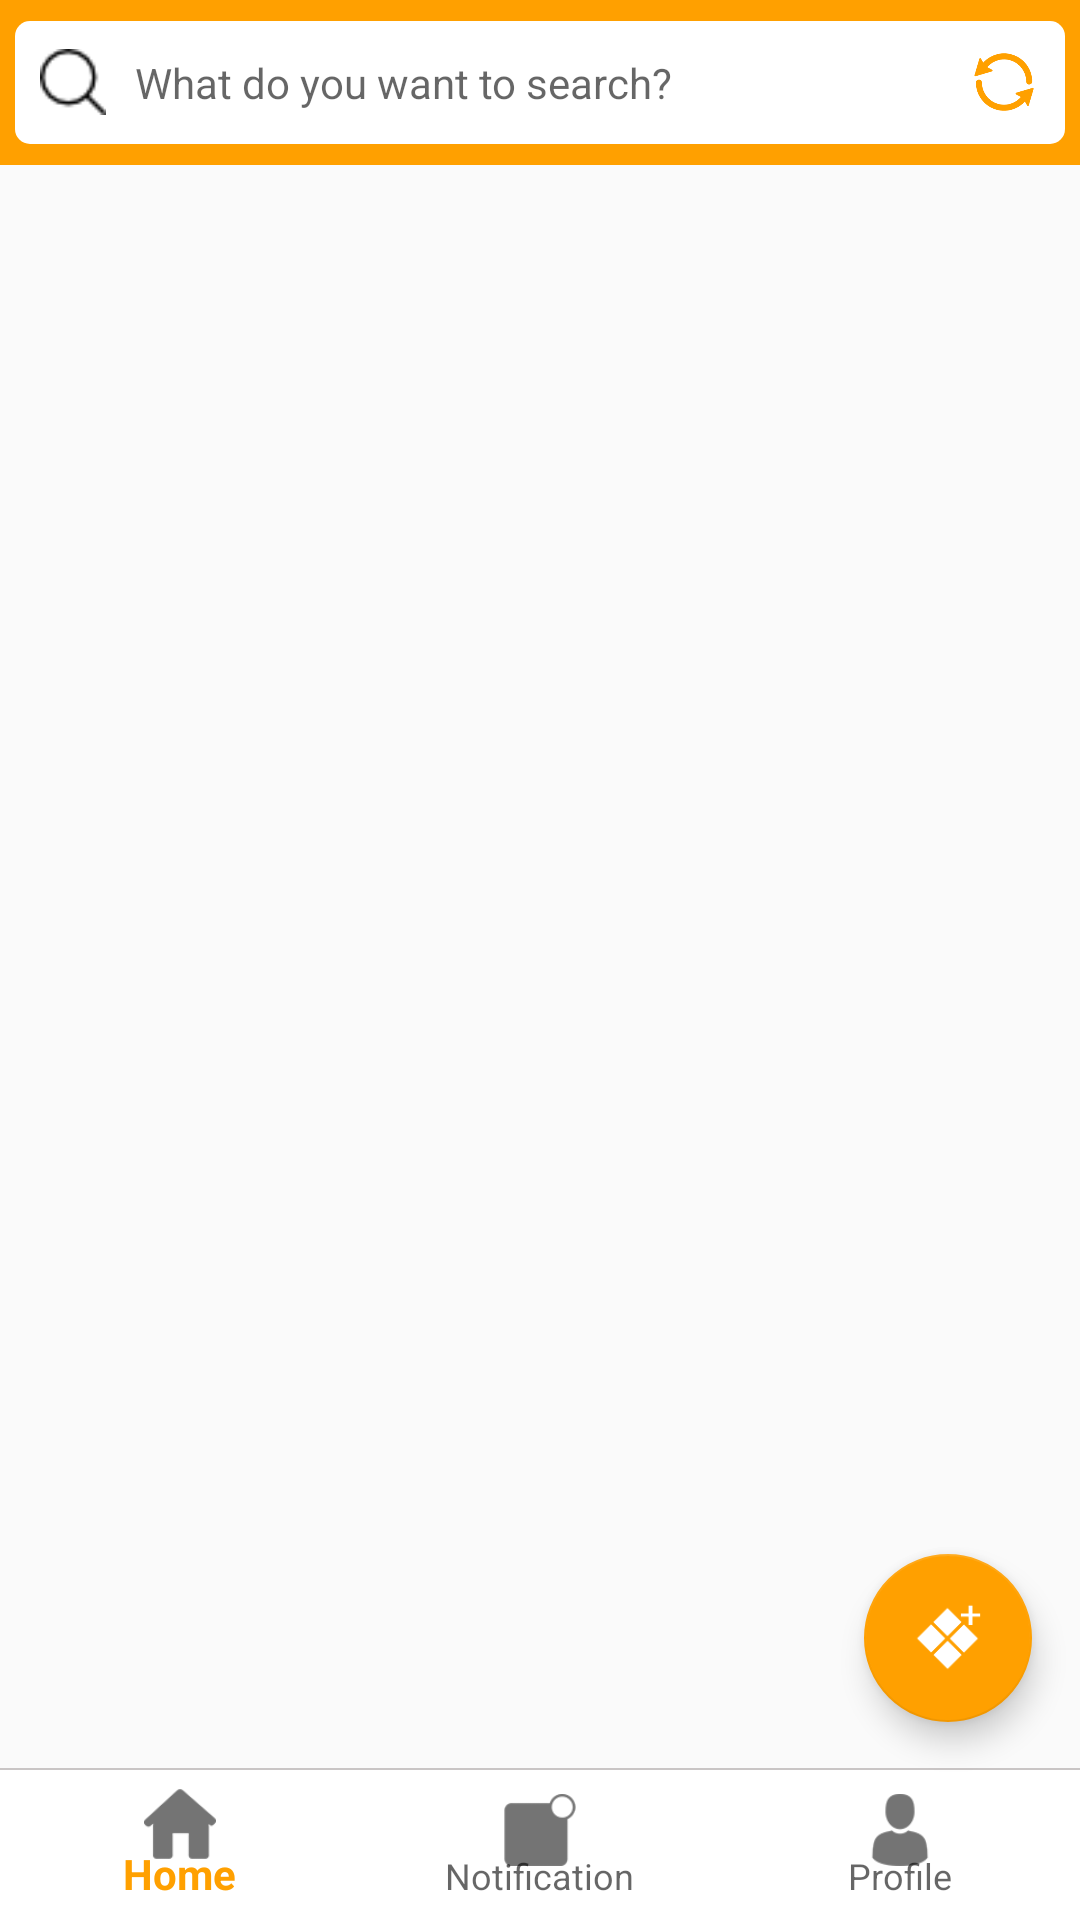

Named icons in this screenshot (1080×1920) and their bounding boxes, (x1, y1, x2, y2):
add product: (864, 1554, 1032, 1722)
sync ing: (974, 53, 1034, 111)
